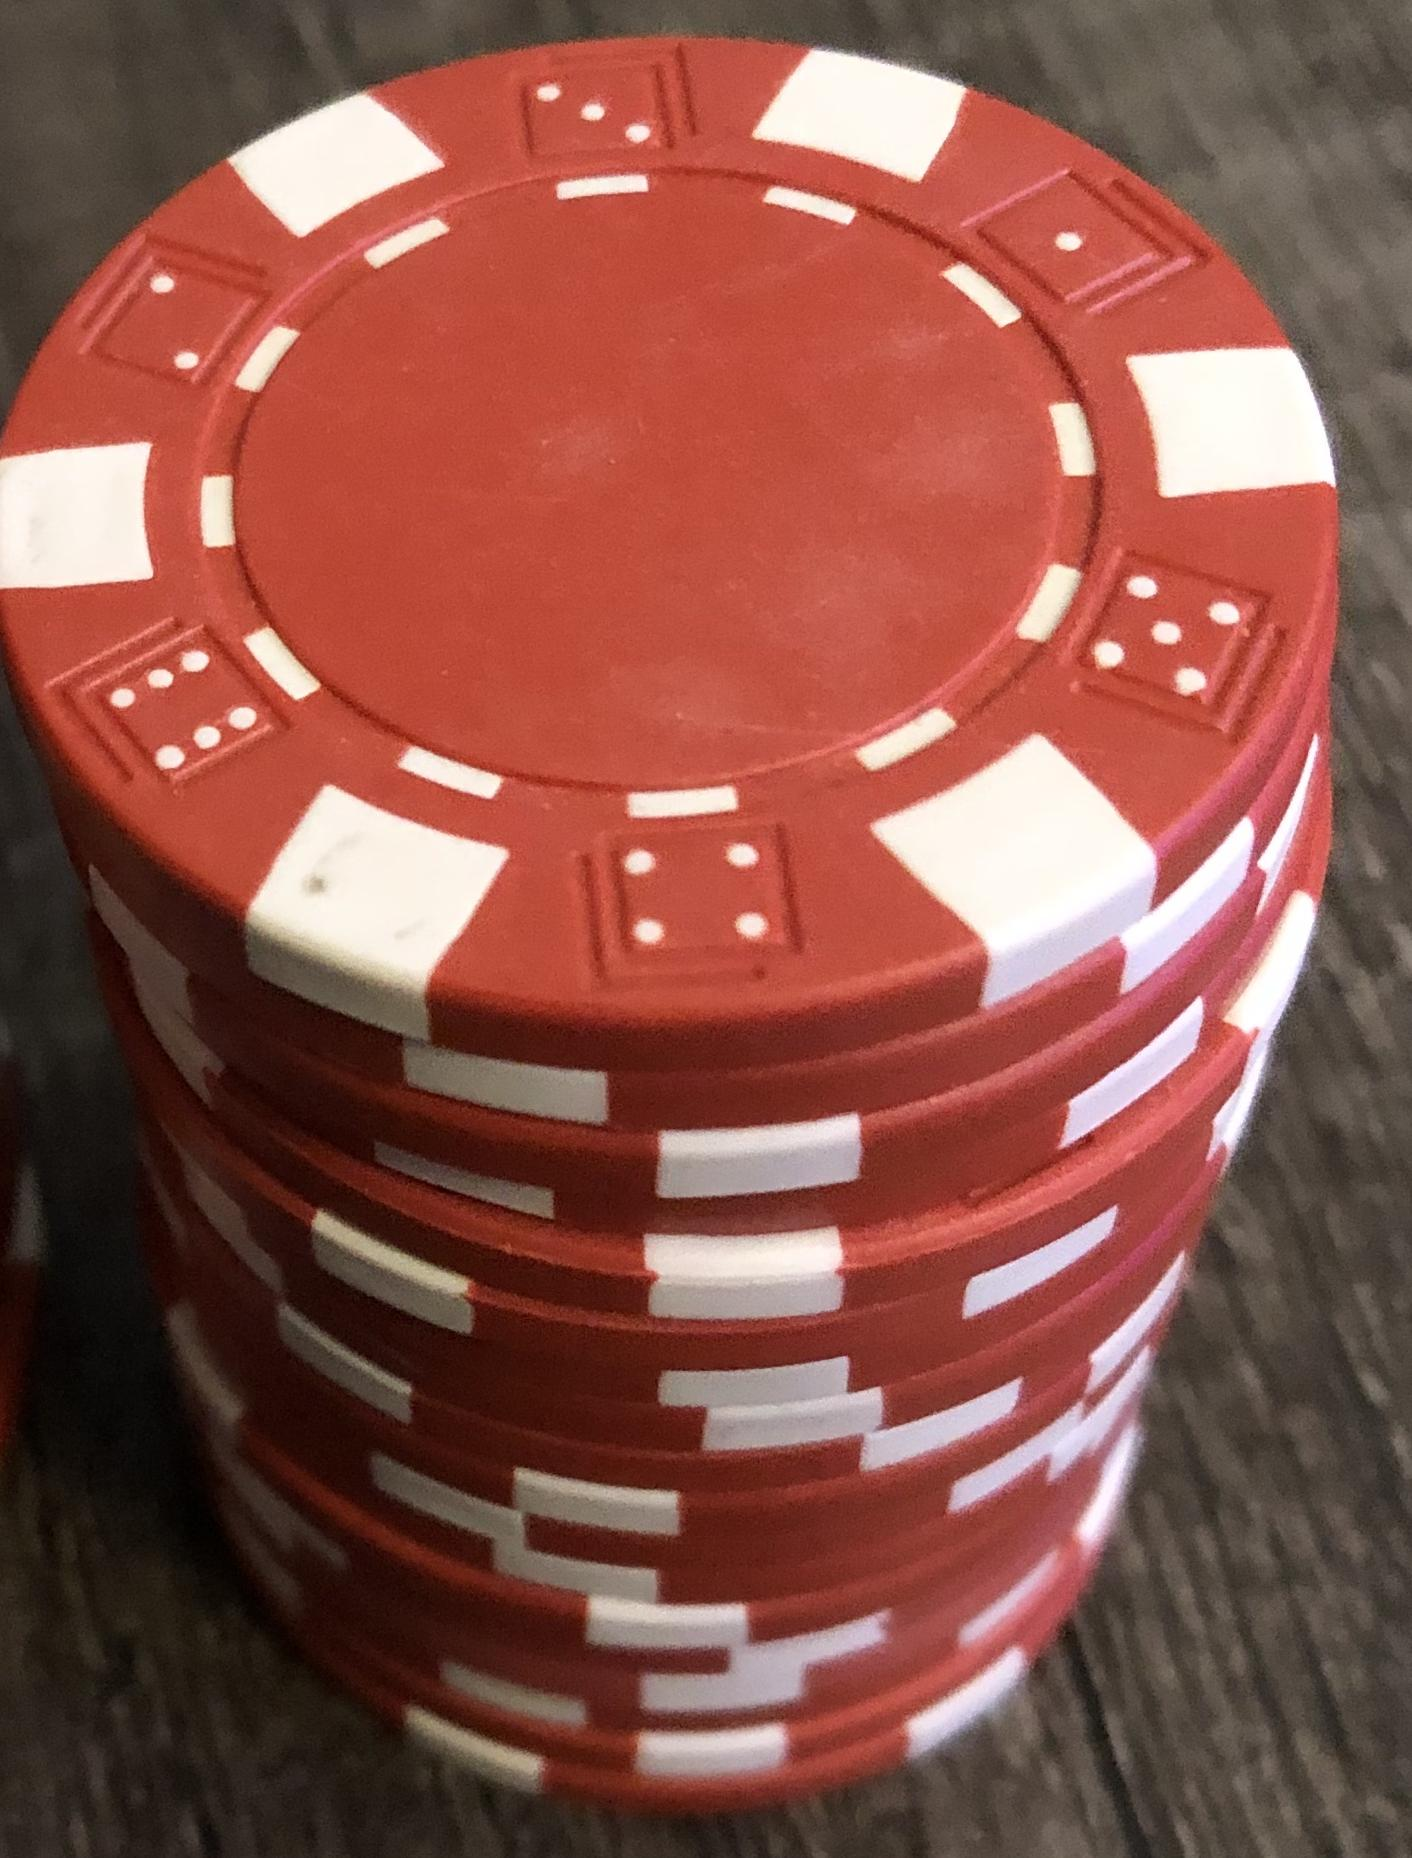Chip: (1, 1, 1412, 1858)
